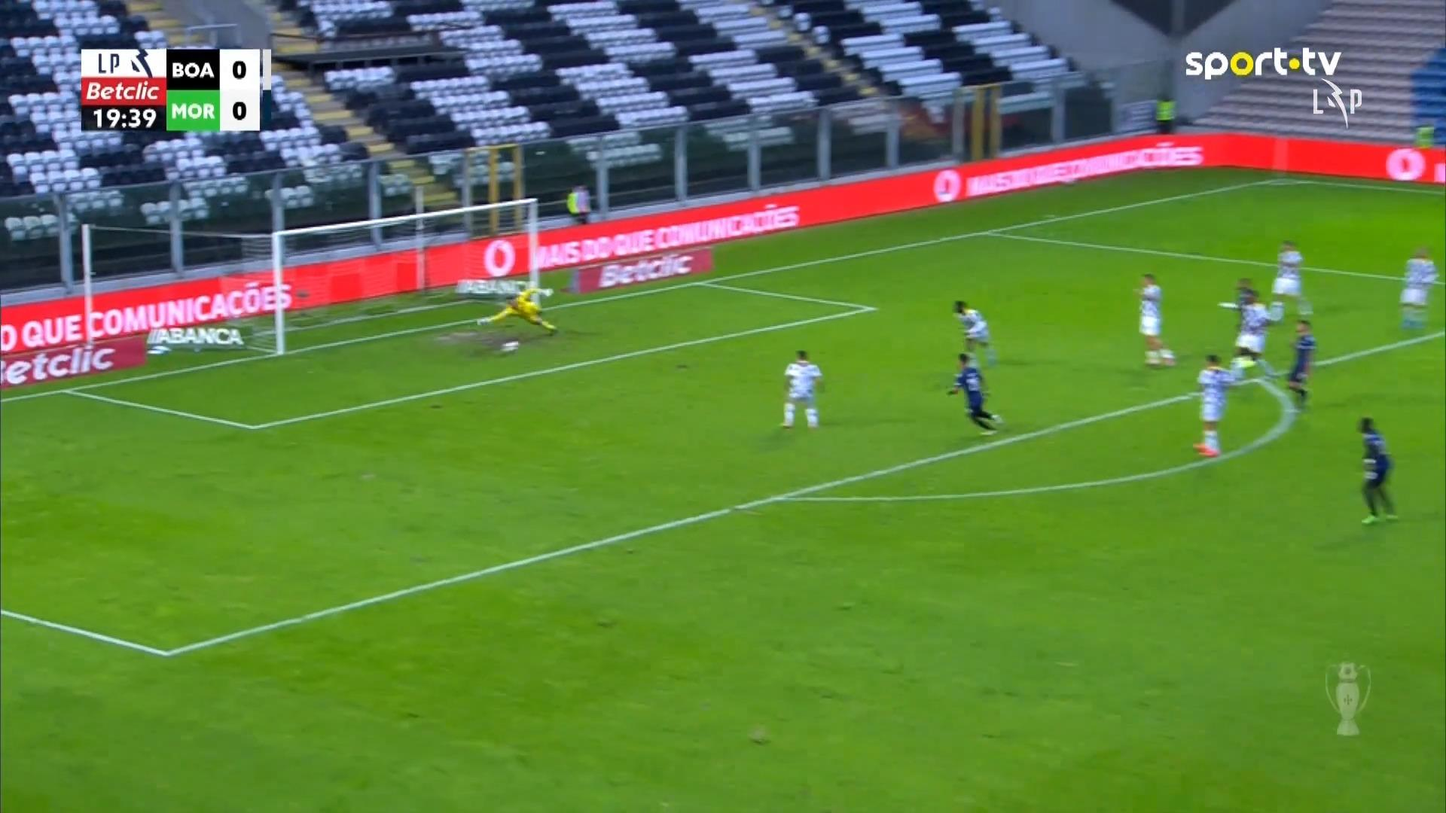ball: (500, 340, 519, 352)
goalkeeper: (475, 282, 558, 336)
player: (1228, 287, 1283, 379), (947, 351, 1004, 435), (1192, 352, 1237, 457), (1356, 415, 1399, 524), (1133, 272, 1176, 368), (1268, 239, 1313, 320), (779, 349, 823, 428), (1399, 246, 1438, 327), (1285, 318, 1316, 411), (951, 298, 991, 370)
